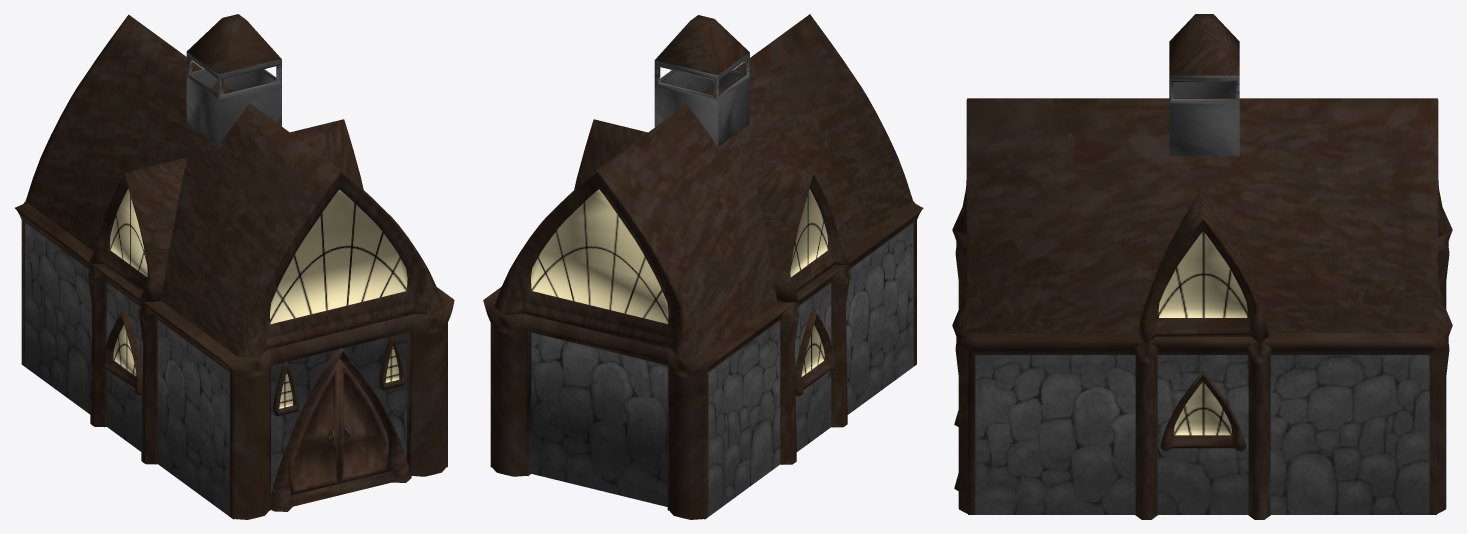
File: ruraltown_house_small.fbx
3 renders of one model, left to right at view 1: azimuth 30°, elevation 25°; view 2: azimuth 150°, elevation 25°; view 3: azimuth 270°, elevation 25°, orthographic. The views are drawn at different scales.
Visible parts, largest first — view 1: house-small; view 2: house-small; view 3: house-small.
Part boxes in pixels (x1=…): house-small: x1=15, y1=14, x2=454, y2=519; house-small: x1=483, y1=14, x2=923, y2=519; house-small: x1=952, y1=14, x2=1452, y2=519.
Size of the model in its own units: 471 by 734 by 759.
